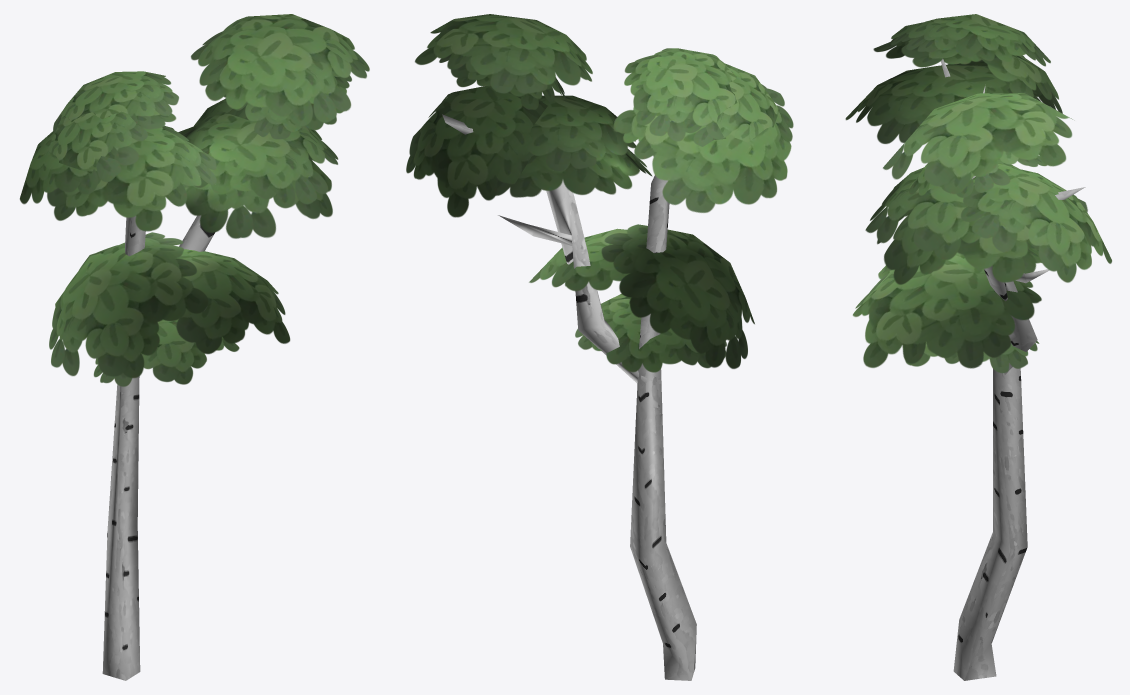
The model's file is street-tree-6-lo.glb.
3 renders of one model, left to right at view 1: azimuth 30°, elevation 25°; view 2: azimuth 150°, elevation 25°; view 3: azimuth 270°, elevation 25°, orthographic. The views are drawn at different scales.
Parts seen in each view (by area): view 1: Birch_2; view 2: Birch_2; view 3: Birch_2.
Boxes of the visible parts, x1,y1,x2,y2 form: Birch_2: (19,14,369,680); Birch_2: (406,14,793,680); Birch_2: (845,14,1111,680).
Bounding box in the file's own units: 5.56 × 9.04 × 3.48.
2 materials, 2 textured.
